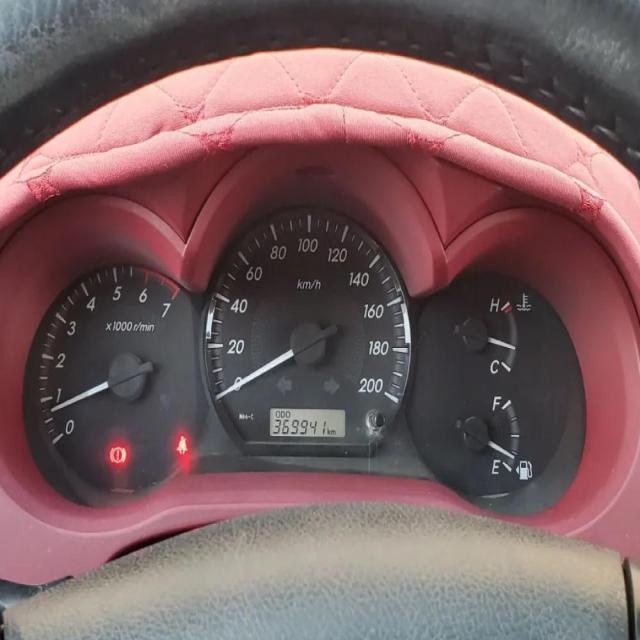Seat Belt: (176, 434, 188, 454)
